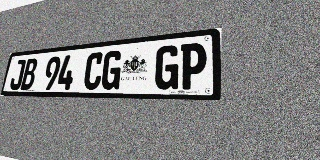4: (56, 54, 77, 90)
9: (42, 56, 62, 90)
B: (20, 58, 38, 90)
C: (82, 52, 104, 90)
G: (154, 45, 180, 89), (100, 50, 123, 90)
J: (9, 59, 26, 90)
P: (179, 42, 207, 89)
